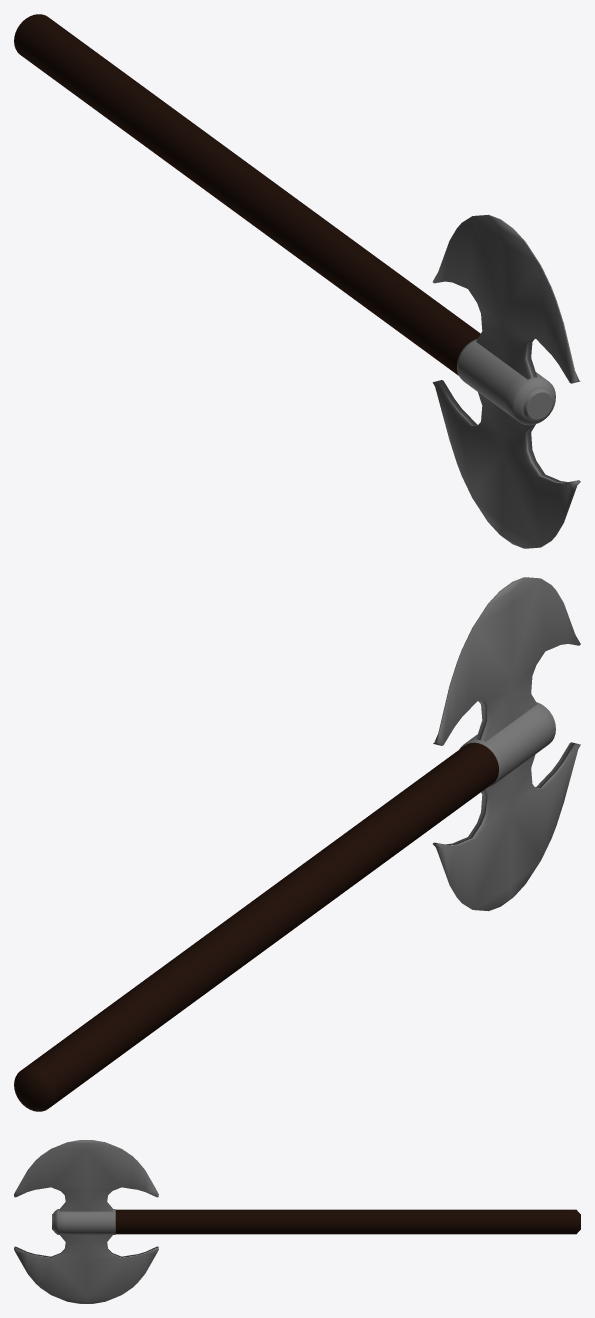
The model's file is axdblhfr.fbx.
3 views of the same model, one above another, from view 1: azimuth 30°, elevation 25°; view 2: azimuth 150°, elevation 25°; view 3: azimuth 270°, elevation 25° (orthographic). The views are drawn at different scales.
Visible parts, largest first — view 1: Cylinder.007, Cube.004, Cylinder.008; view 2: Cylinder.007, Cube.004, Cylinder.008; view 3: Cube.004, Cylinder.007, Cylinder.008.
Part boxes in pixels (bbox=[...]): Cylinder.007: bbox=[14, 14, 480, 375]; Cube.004: bbox=[432, 214, 580, 548]; Cylinder.008: bbox=[457, 339, 555, 425]; Cylinder.007: bbox=[14, 742, 498, 1111]; Cube.004: bbox=[433, 577, 580, 911]; Cylinder.008: bbox=[459, 702, 555, 787]; Cube.004: bbox=[14, 1140, 158, 1303]; Cylinder.007: bbox=[115, 1209, 580, 1234]; Cylinder.008: bbox=[52, 1209, 115, 1234].
Size of the model in its own units: 42.02 by 290 by 911.
